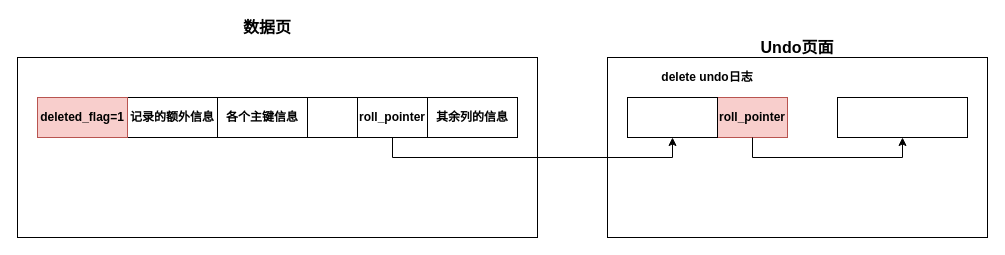
The diagram is 1005 pixels wide and 255 high, and some of its shapes have lost their labels. Here are the shapes that lost their labels. From the top down, the box of each, then its label:
(306, 96, 358, 138): trx_id
(626, 96, 718, 138): 其余信息
(836, 96, 968, 138): insert undo日志
